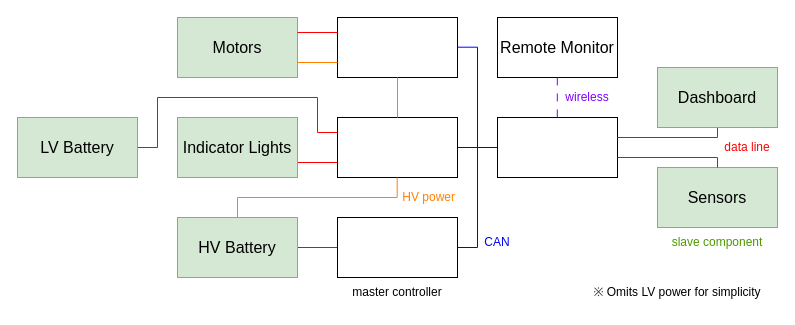
This 795x325 diagram has some shape labels left out. Each missing label, with the centre of its shape:
Battery Management System: point 397,247
High Voltage & LV BMS: point 397,147
Motor Controllers: point 397,47
Vehicle Control Unit: point 557,147
